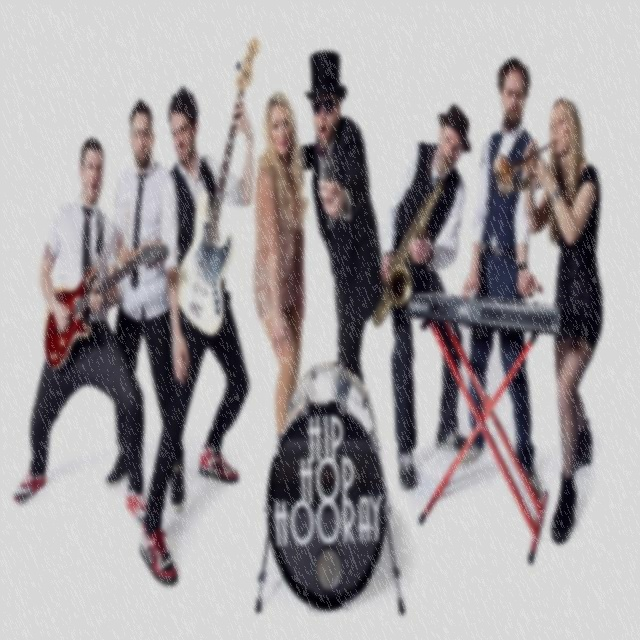pessoa: (138, 38, 262, 592), (12, 134, 150, 534), (491, 92, 606, 551), (372, 101, 474, 494), (100, 95, 190, 518), (459, 56, 544, 503), (298, 48, 388, 406), (248, 88, 310, 452)
